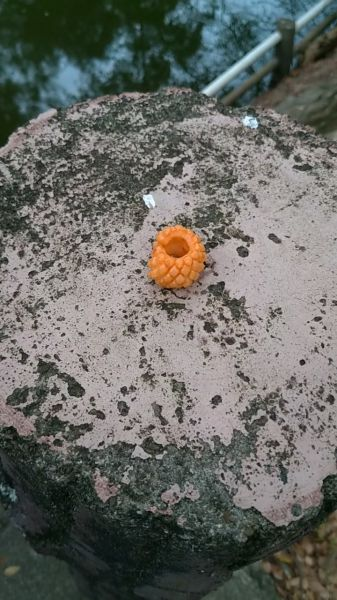eggs: (146, 218, 207, 294)
